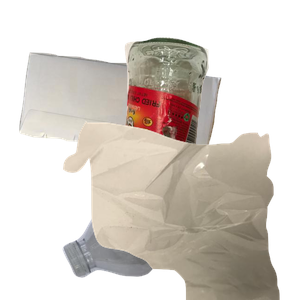glass: (112, 35, 300, 215)
paper: (17, 50, 231, 230)
plastic: (60, 190, 300, 280)
trash: (61, 120, 300, 300)
